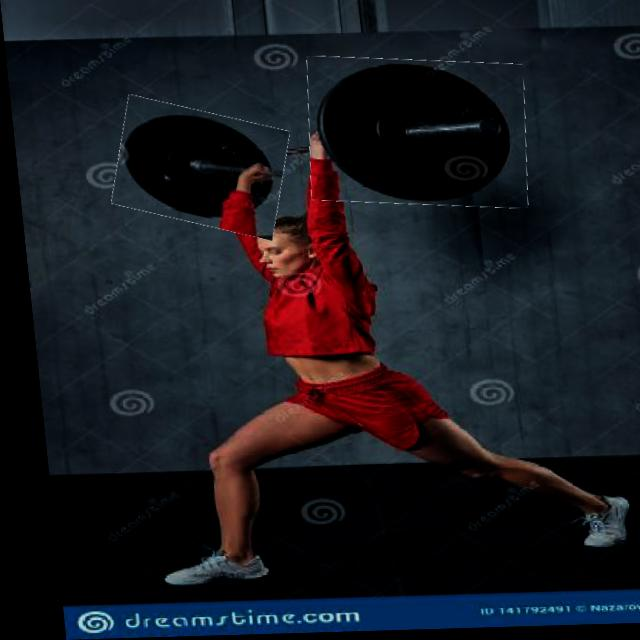barbell: (299, 57, 531, 214), (106, 102, 290, 237)
